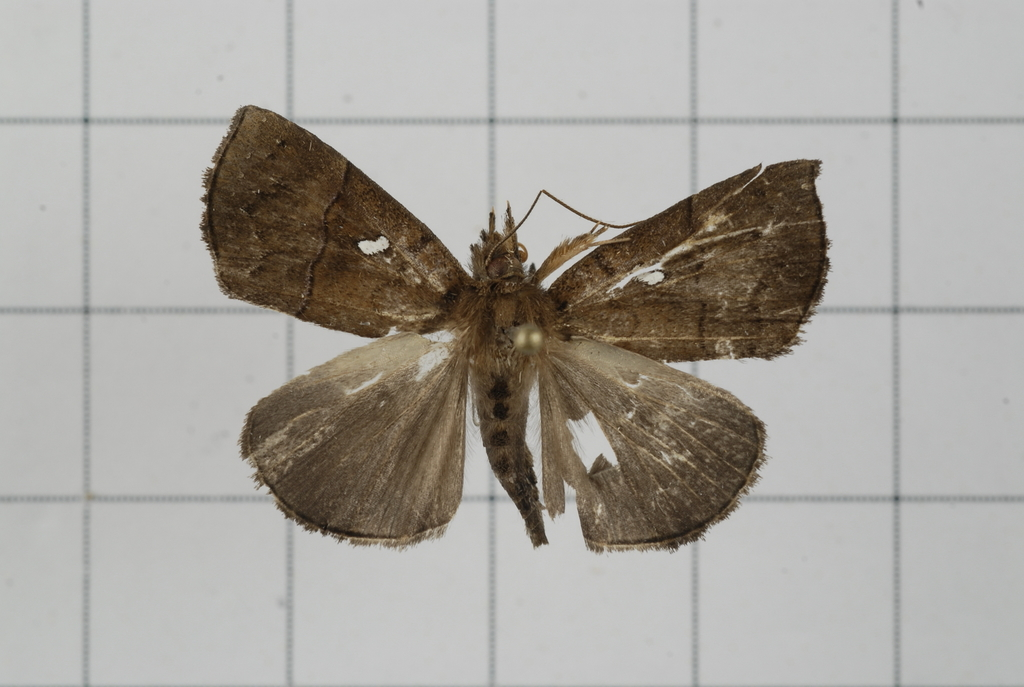Butterfly: (202, 99, 858, 548)
